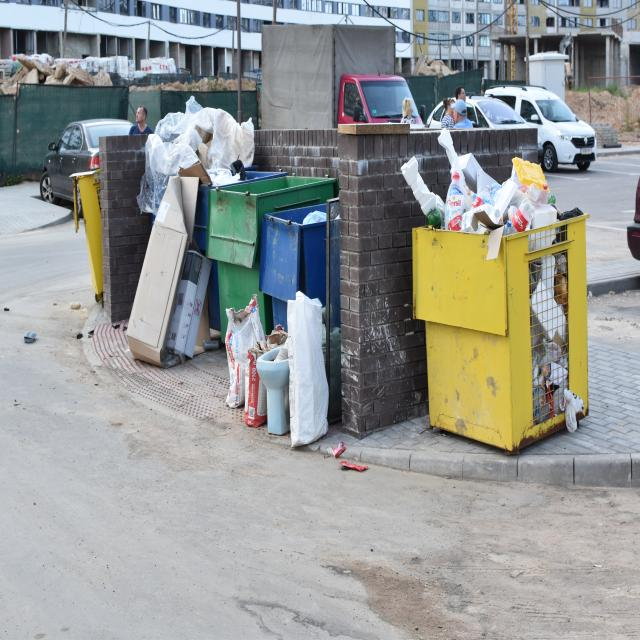entulho: (126, 176, 200, 363), (287, 293, 329, 446), (220, 300, 266, 410), (70, 183, 109, 305), (258, 341, 296, 431), (4, 58, 53, 92), (37, 59, 95, 85)
lixo domiciliar: (441, 133, 557, 252), (138, 108, 252, 216), (530, 262, 568, 416), (403, 156, 454, 233), (562, 389, 586, 433), (329, 441, 363, 470), (560, 198, 585, 233), (302, 210, 328, 223)
